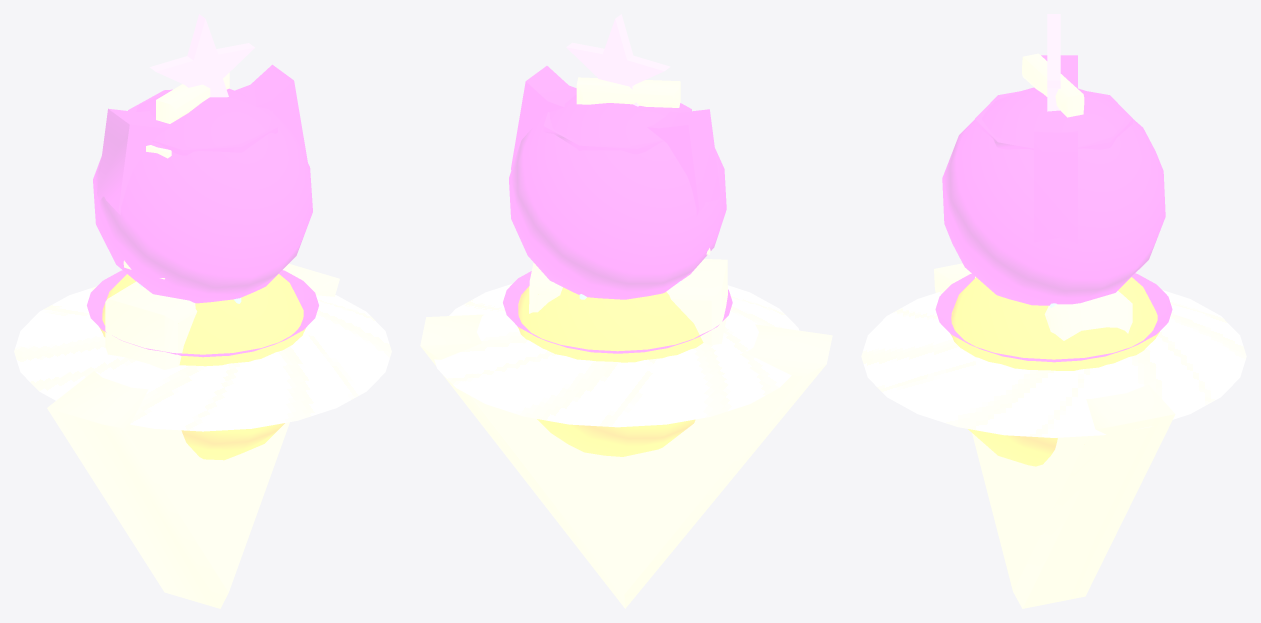
Rendered from bits.glb.
The picture shows the model from 3 angles, left to right: view 1: azimuth 30°, elevation 25°; view 2: azimuth 150°, elevation 25°; view 3: azimuth 270°, elevation 25°; orthographic projection. The views are drawn at different scales.
Parts seen in each view (by area): view 1: Arrow, BoxCoco, Spinner_1, Ball, BoxFrosties, BoxRK, BoxCornflakes; view 2: Arrow, BoxCoco, Spinner_1, Ball, BoxFrosties, BoxRK, BoxCornflakes; view 3: BoxCoco, Spinner_1, Arrow, Ball, BoxFrosties, BoxRK, BoxCornflakes.
Boxes of the visible parts, x1,y1,x2,y2 form: Arrow: (47,72,339,608); BoxCoco: (93,88,312,303); Spinner_1: (14,270,391,431); Ball: (99,274,305,460); BoxFrosties: (97,64,307,214); BoxRK: (149,14,254,97); BoxCornflakes: (128,89,277,303); Arrow: (420,77,832,608); BoxCoco: (509,94,726,299); Spinner_1: (434,271,799,427); Ball: (517,286,703,456); BoxFrosties: (511,66,720,216); BoxRK: (566,14,670,106); BoxCornflakes: (543,103,691,299); BoxCoco: (942,87,1165,305); Spinner_1: (861,273,1246,437); Arrow: (934,53,1175,608); Ball: (950,277,1159,466); BoxFrosties: (1034,55,1077,243); BoxRK: (1047,14,1060,111); BoxCornflakes: (975,91,1132,307).
Size of the model in its own units: 1.99 by 3.17 by 1.86.
42 materials, 3 textured.
